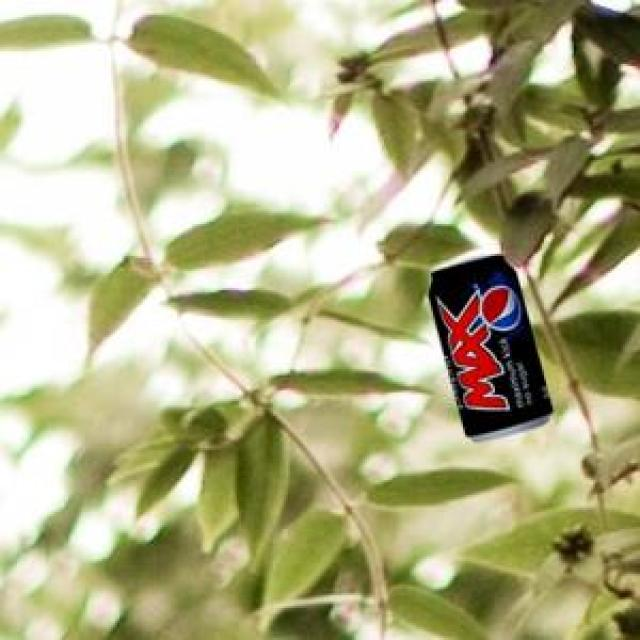logam: (426, 251, 549, 438)
